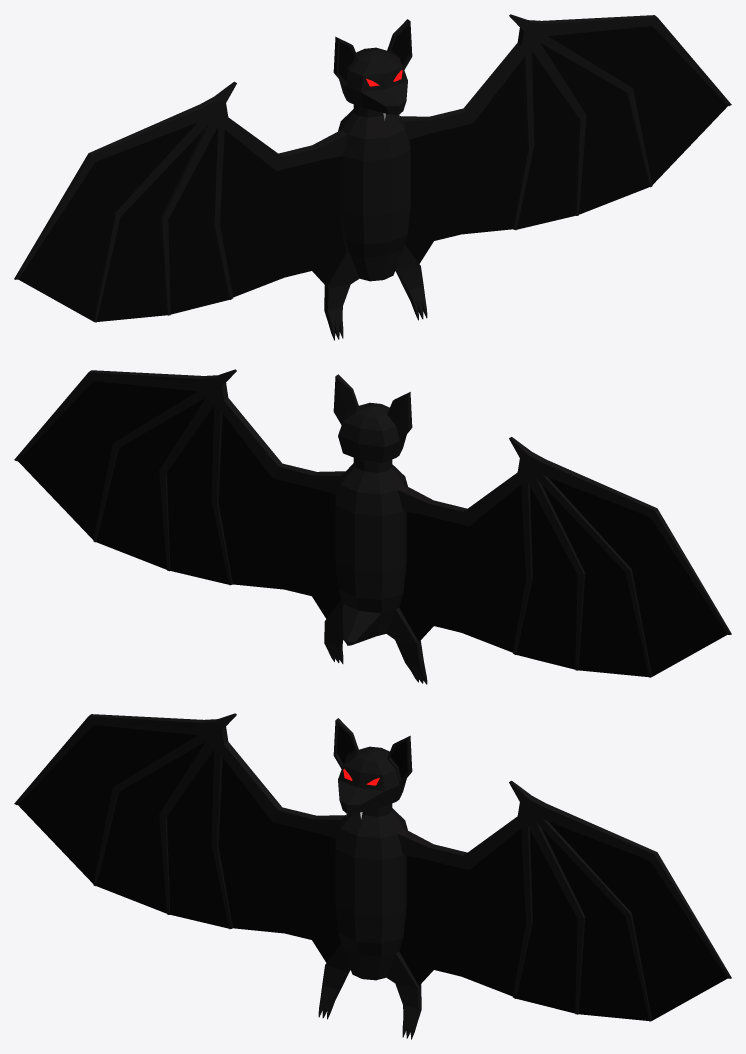
The model's file is Bat1.fbx.
The picture shows the model from 3 angles, top to bottom: view 1: azimuth 30°, elevation 25°; view 2: azimuth 150°, elevation 25°; view 3: azimuth 330°, elevation 25°; orthographic projection.
Parts seen in each view (by area): view 1: Bat1; view 2: Bat1; view 3: Bat1.
Boxes of the visible parts, <box> form: Bat1: <box>14,14,731,340</box>; Bat1: <box>14,369,731,684</box>; Bat1: <box>14,713,731,1039</box>.
Size of the model in its own units: 41.13 by 5.17 by 16.17.
